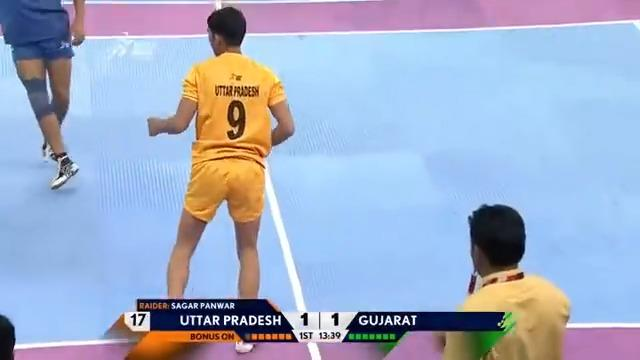Player: (440, 202, 571, 359), (0, 0, 86, 189)
Raider: (146, 6, 295, 352)
